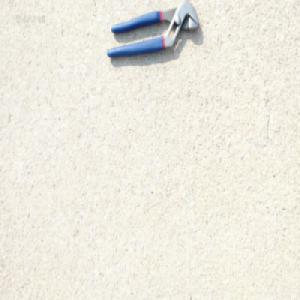Pliers: (105, 0, 199, 61)
